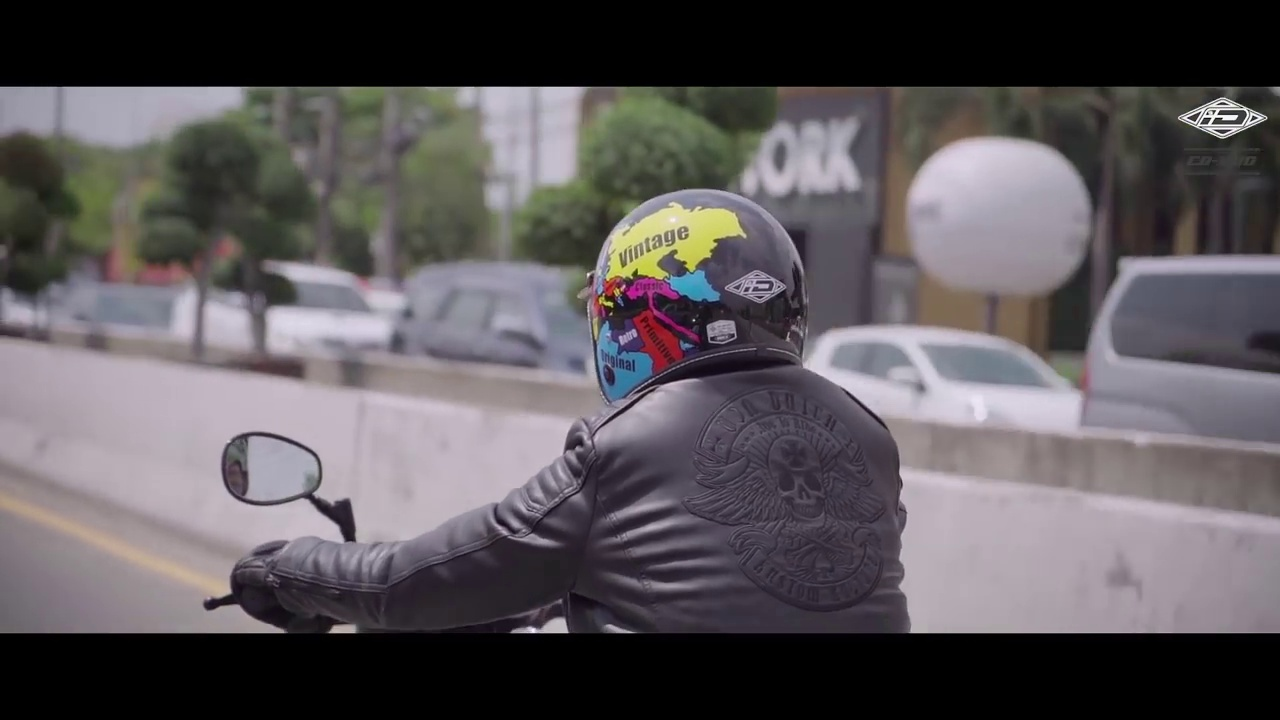helmet: (578, 191, 815, 404)
